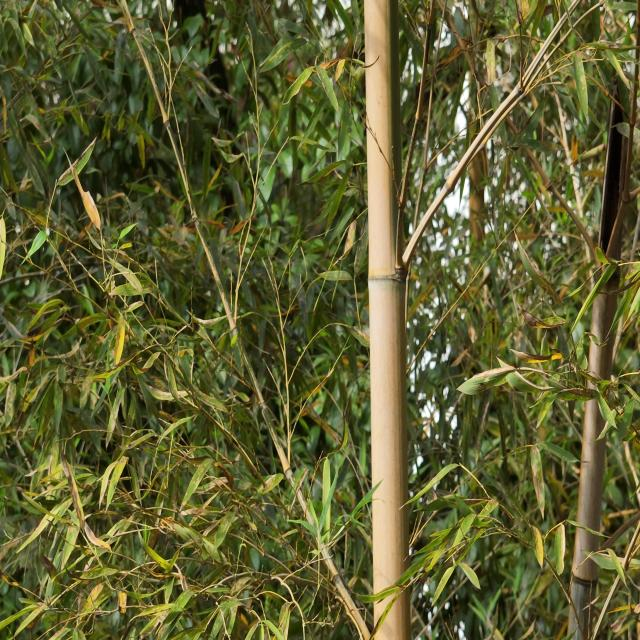Bamboo-shoots: (364, 0, 412, 640)
